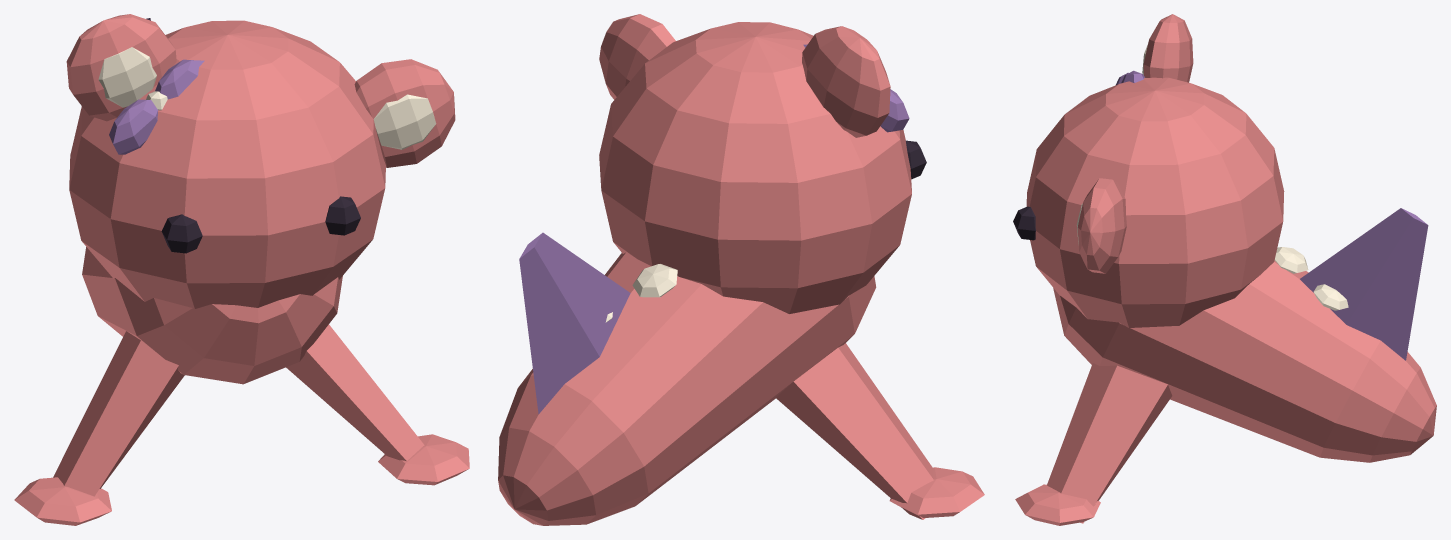
The model's file is flat-city-2.glb.
3 renders of one model, left to right at view 1: azimuth 30°, elevation 25°; view 2: azimuth 150°, elevation 25°; view 3: azimuth 270°, elevation 25°, orthographic. The views are drawn at different scales.
Parts seen in each view (by area): view 1: flat-city-2; view 2: flat-city-2; view 3: flat-city-2.
Part boxes in pixels (x1,y1,x2,y2): flat-city-2: (14,14,469,525); flat-city-2: (498,14,984,525); flat-city-2: (1013,14,1436,525).
Size of the model in its own units: 0.6263 by 0.7 by 0.6778.
